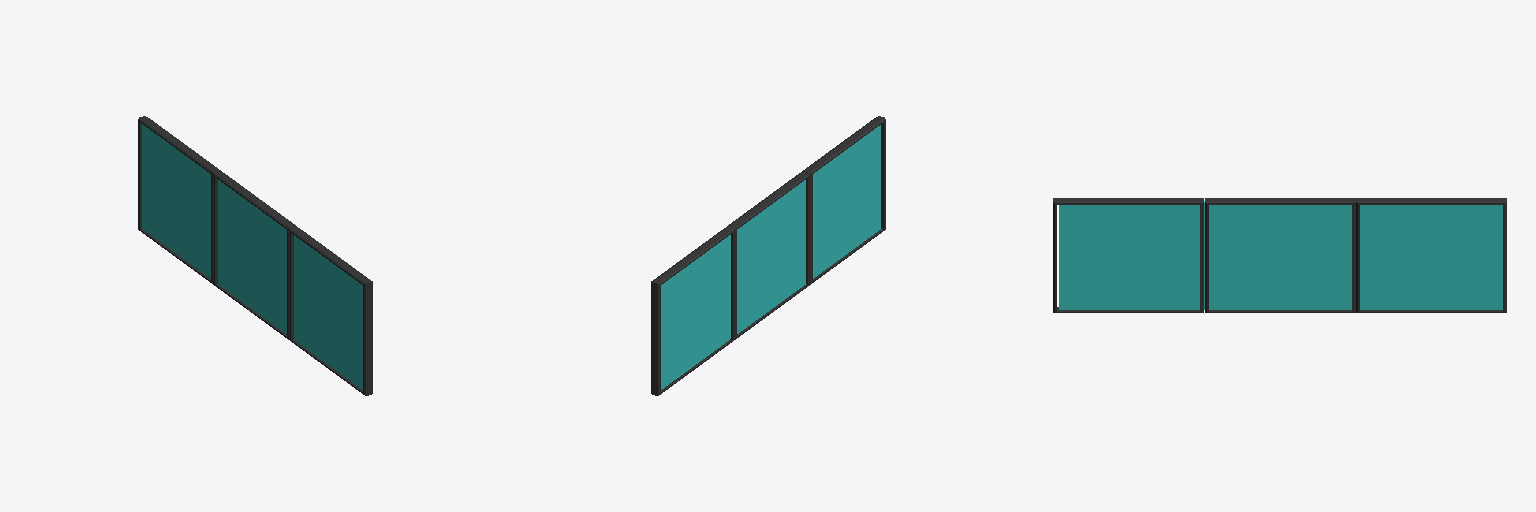
3 views of the same model, side by side, from view 1: azimuth 30°, elevation 25°; view 2: azimuth 150°, elevation 25°; view 3: azimuth 270°, elevation 25° (orthographic).
Parts seen in each view (by area): view 1: ventanasH:Mesh13Group11Window_Casement_Wood_Triple_81_5x36_1Mode; view 2: ventanasH:Mesh13Group11Window_Casement_Wood_Triple_81_5x36_1Mode; view 3: ventanasH:Mesh13Group11Window_Casement_Wood_Triple_81_5x36_1Mode.
Part boxes in pixels (x1,y1,x2,y2): ventanasH:Mesh13Group11Window_Casement_Wood_Triple_81_5x36_1Mode: (138,116,372,395); ventanasH:Mesh13Group11Window_Casement_Wood_Triple_81_5x36_1Mode: (651,116,885,395); ventanasH:Mesh13Group11Window_Casement_Wood_Triple_81_5x36_1Mode: (1053,198,1506,312).
Bounding box in the file's own units: 0.0508 × 0.5519 × 2.02.
2 materials, 1 textured.